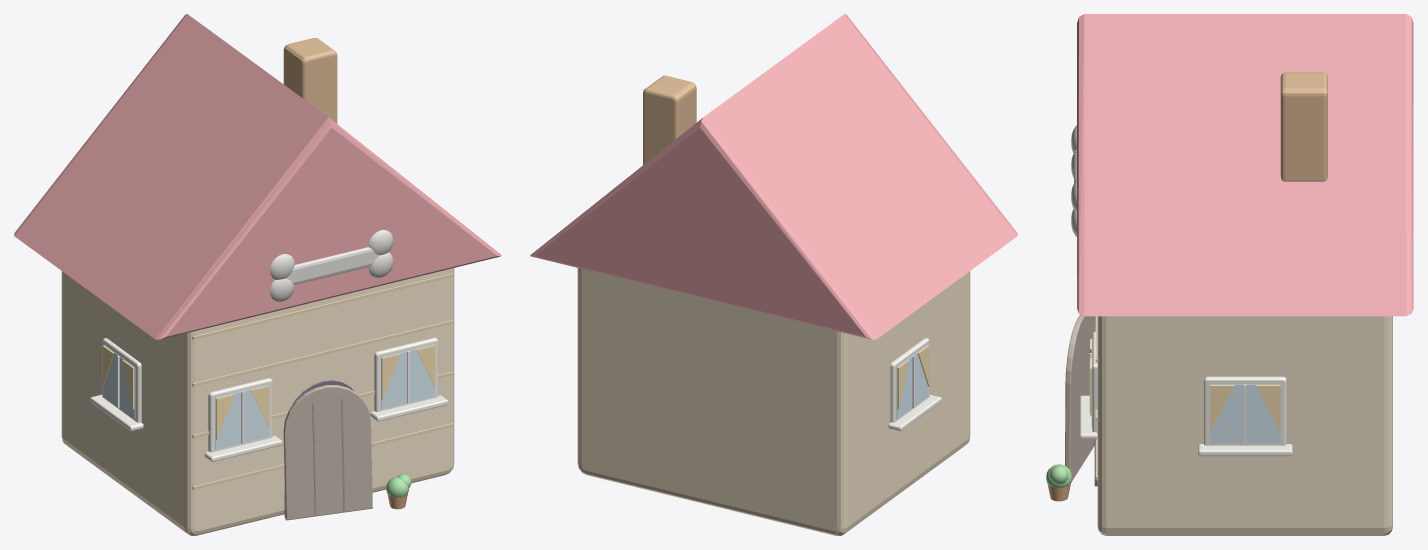
The model's file is building_pets_L05.glb.
The picture shows the model from 3 angles, left to right: view 1: azimuth 30°, elevation 25°; view 2: azimuth 150°, elevation 25°; view 3: azimuth 270°, elevation 25°; orthographic projection. The views are drawn at different scales.
Visible parts, largest first — view 1: Body, pets_L5; view 2: Body; view 3: Body, pets_L5.
Boxes of the visible parts, x1=… form: Body: x1=14, y1=14, x2=501, y2=535; pets_L5: x1=386, y1=474, x2=411, y2=509; Body: x1=530, y1=14, x2=1017, y2=535; Body: x1=1065, y1=14, x2=1413, y2=535; pets_L5: x1=1046, y1=464, x2=1072, y2=501.
Size of the model in its own units: 15.46 by 16.89 by 12.44.
